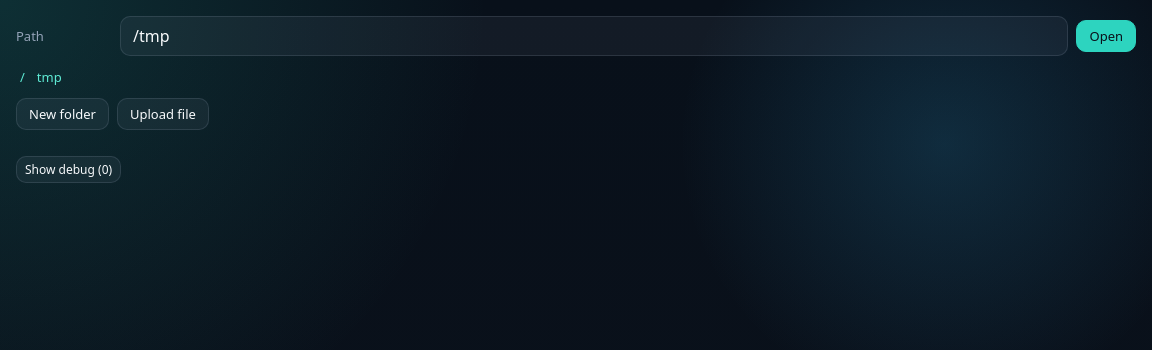
it: DeviceFiles › displays 4xx error envelope from hub
The width and height of the screenshot is (1152, 350).
Replace the text in the field labelled "Path" with "/etc": (594,36) left=120, top=16, right=1068, bottom=56
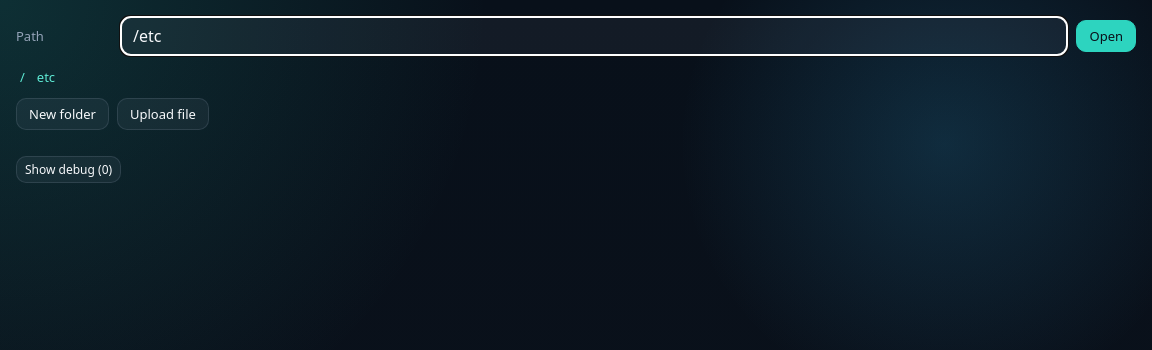
Click the button "Open": (1106,36) left=1076, top=20, right=1136, bottom=52
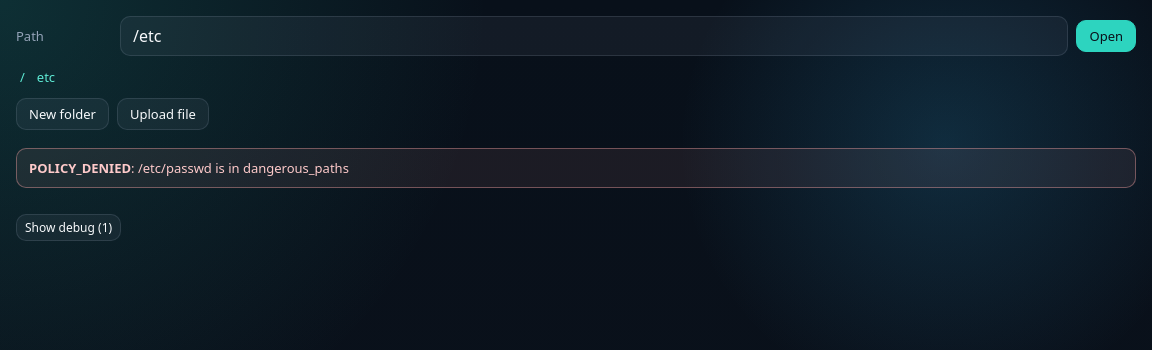
Expected: the message shows "POLICY_DENIED", left=29, top=159, right=131, bottom=177
Expected: the message shows "dangerous_paths", left=138, top=159, right=349, bottom=177
